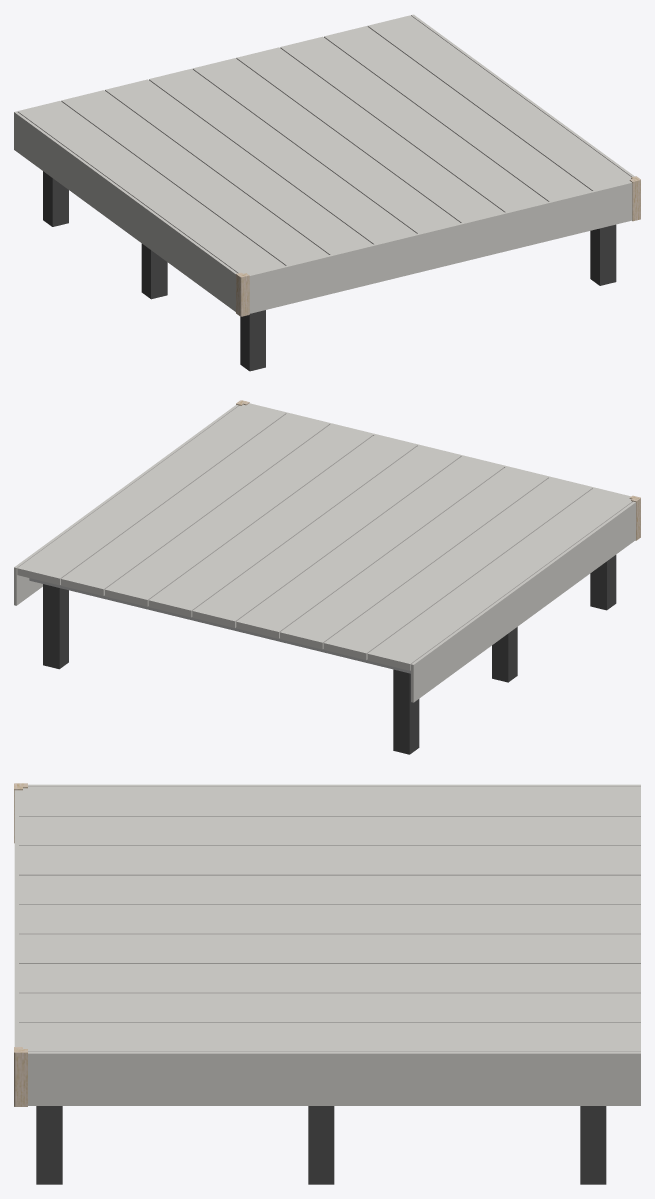
The model's file is ecowood2deck195_1k-6s_white.fbx.
3 views of the same model, one above another, from view 1: azimuth 30°, elevation 25°; view 2: azimuth 150°, elevation 25°; view 3: azimuth 270°, elevation 25° (orthographic). The views are drawn at different scales.
Visible parts, largest first — view 1: ecowood2deck195_1k-6s_white; view 2: ecowood2deck195_1k-6s_white; view 3: ecowood2deck195_1k-6s_white.
Part boxes in pixels (bbox=[...]): ecowood2deck195_1k-6s_white: bbox=[14, 14, 640, 371]; ecowood2deck195_1k-6s_white: bbox=[14, 400, 640, 754]; ecowood2deck195_1k-6s_white: bbox=[14, 783, 640, 1184].
Bounding box in the file's own units: 183 × 45.4 × 180.
Materials: 4 (1 with a texture image).
